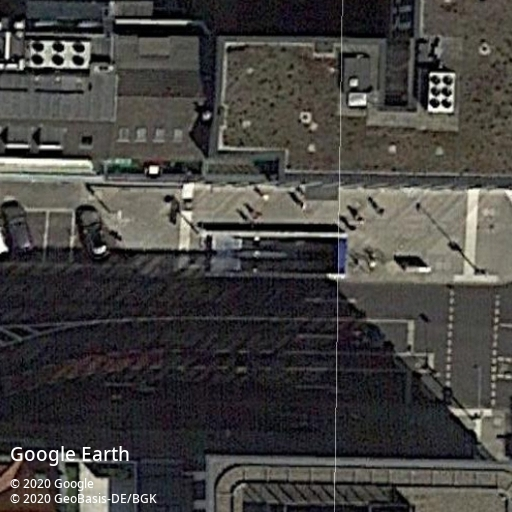Chiller: (29, 38, 91, 71), (427, 71, 455, 114)
